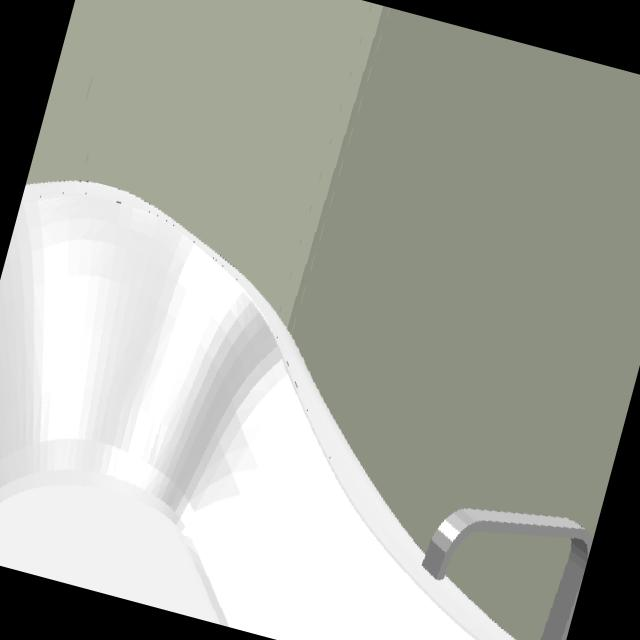bathtube: (0, 184, 579, 640)
